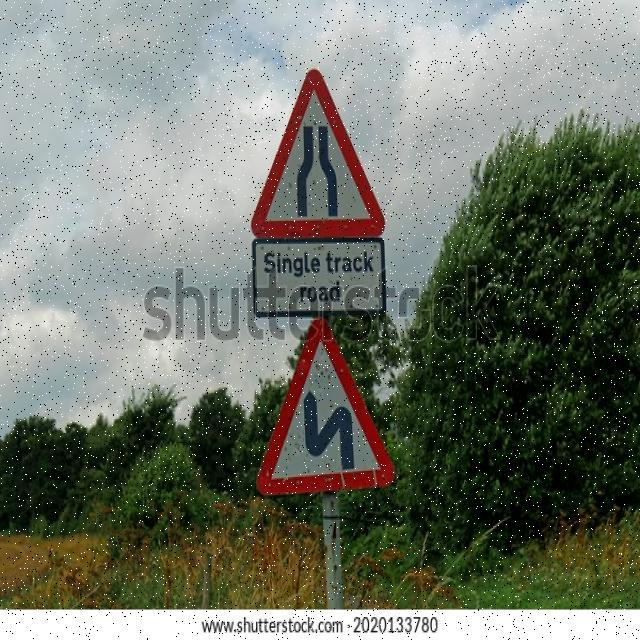Traffic sign: (244, 64, 409, 502)
